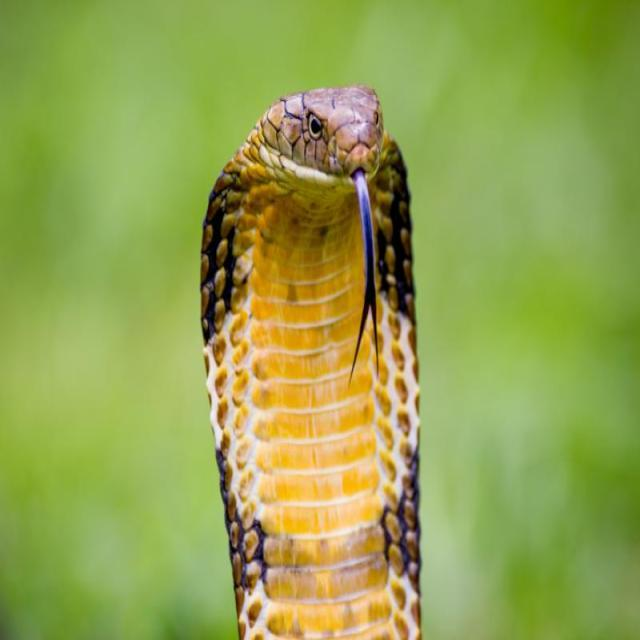Snake: (198, 83, 424, 639)
